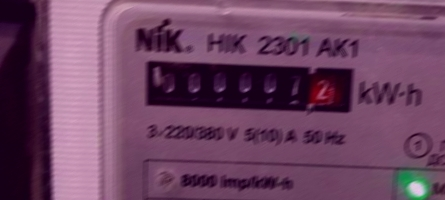0: (159, 70, 175, 95), (237, 71, 252, 95), (262, 71, 276, 95), (186, 71, 200, 94), (212, 71, 226, 94)
2: (314, 78, 329, 102)
7: (288, 73, 301, 97)
screen: (132, 48, 363, 125)
